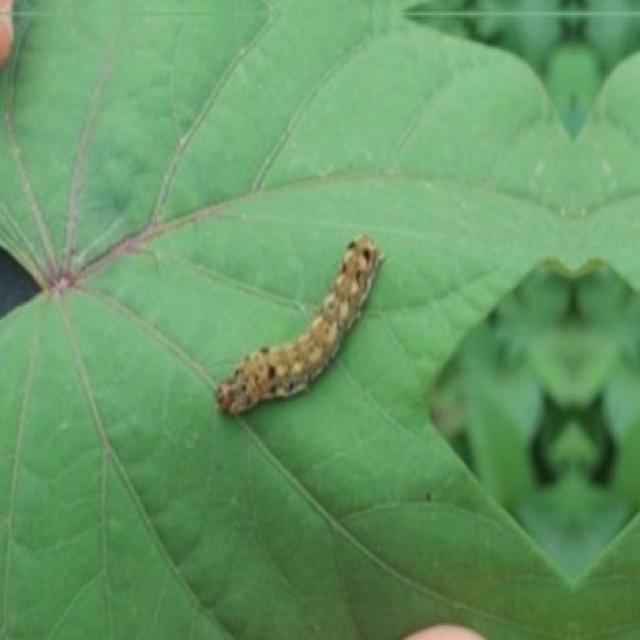armyworm: (213, 232, 385, 416)
